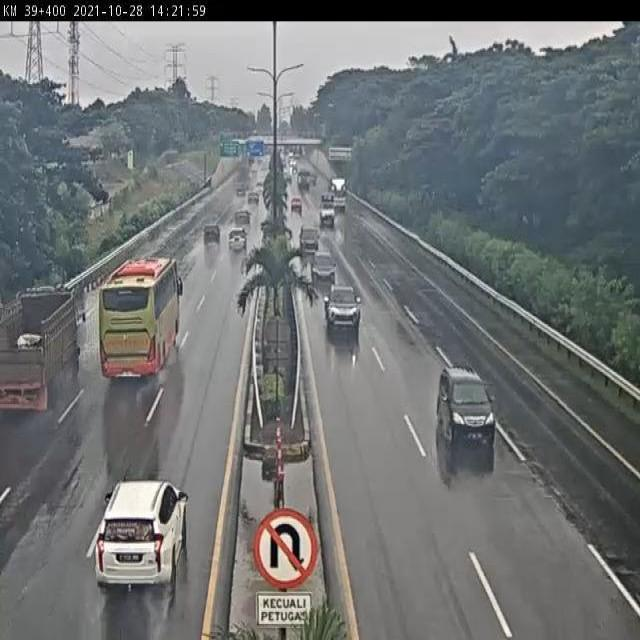big bus: (99, 260, 182, 385)
car: (95, 481, 190, 596), (436, 364, 497, 447), (323, 283, 362, 333), (309, 248, 336, 285), (297, 220, 321, 253), (225, 228, 249, 257), (201, 220, 222, 249)
truck-l-: (0, 286, 86, 414)
